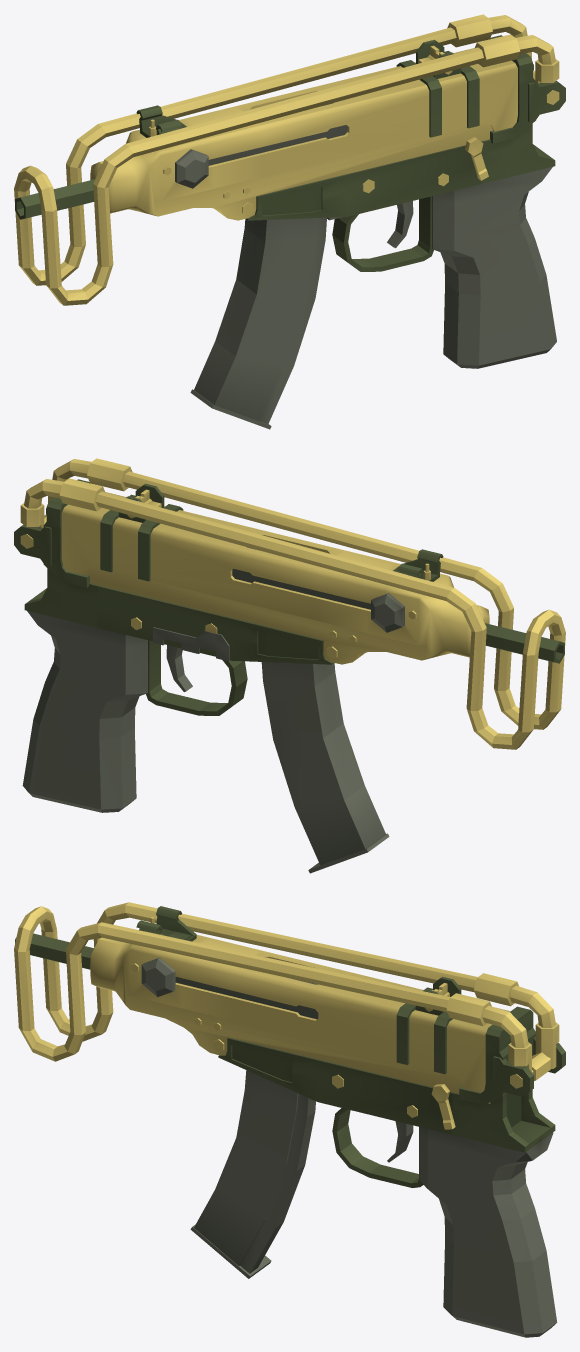
The model's file is Mid_Buzzer.glb.
3 renders of one model, top to bottom at view 1: azimuth 30°, elevation 25°; view 2: azimuth 150°, elevation 25°; view 3: azimuth 330°, elevation 25°, orthographic.
Visible parts, largest first — view 1: Cube.006_0, Cylinder.006_0, Cube_0, Cube.001_0, Cube.004_0, Cube.005_0, Cylinder_0, Cube.003_0; view 2: Cube.006_0, Cylinder.006_0, Cube_0, Cube.001_0, Cube.004_0, Cube.005_0, Cube.003_0, Cylinder_0; view 3: Cube.006_0, Cylinder.006_0, Cube_0, Cube.001_0, Cube.004_0, Cube.005_0, Cylinder_0.
Boxes of the visible parts, x1,y1,x2,y2 form: Cube.006_0: [90, 48, 517, 220]; Cylinder.006_0: [14, 14, 559, 305]; Cube_0: [15, 35, 565, 271]; Cube.001_0: [432, 167, 556, 368]; Cube.004_0: [194, 217, 326, 424]; Cube.005_0: [175, 103, 347, 429]; Cylinder_0: [149, 45, 559, 215]; Cube.003_0: [387, 201, 413, 248]; Cube.006_0: [61, 492, 489, 664]; Cylinder.006_0: [20, 458, 565, 749]; Cube_0: [14, 479, 564, 715]; Cube.001_0: [22, 611, 147, 812]; Cube.004_0: [261, 662, 385, 865]; Cube.005_0: [232, 547, 404, 873]; Cube.003_0: [153, 627, 229, 691]; Cylinder_0: [20, 489, 430, 659]; Cube.006_0: [90, 935, 510, 1103]; Cylinder.006_0: [14, 902, 559, 1072]; Cube_0: [15, 906, 565, 1187]; Cube.001_0: [419, 1127, 557, 1337]; Cube.004_0: [194, 1070, 315, 1273]; Cube.005_0: [141, 957, 318, 1278]; Cylinder_0: [131, 917, 550, 1129].
Size of the model in its own units: 0.3005 by 0.1823 by 0.0395.
